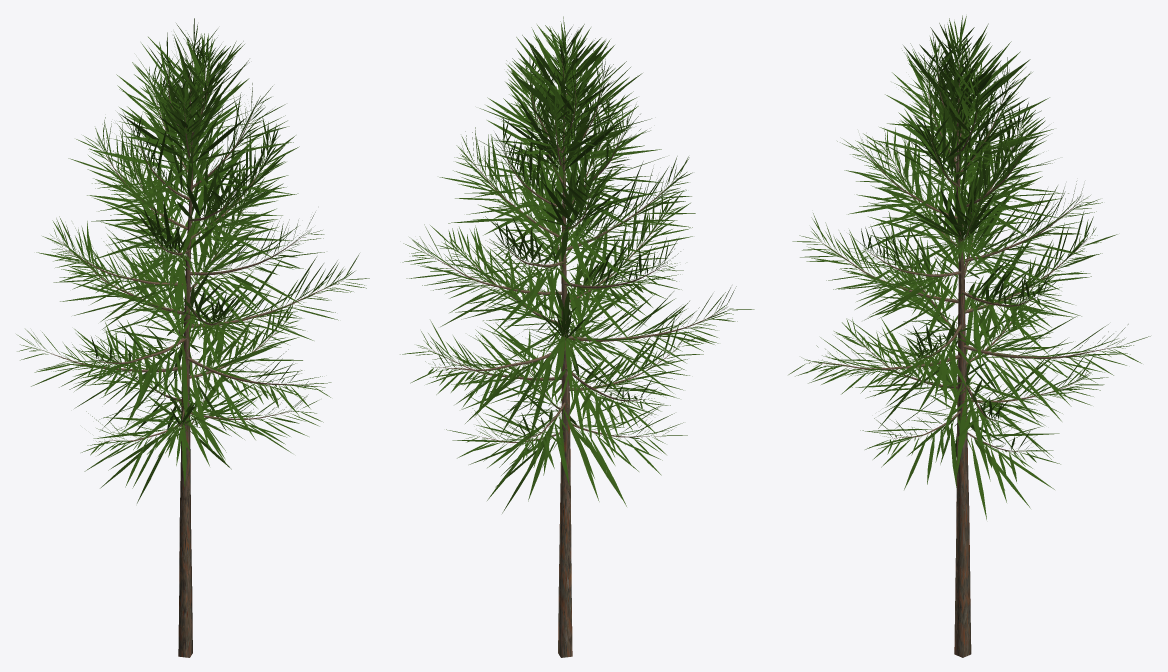
Rendered from Skinny short varient.fbx.
3 renders of one model, left to right at view 1: azimuth 30°, elevation 25°; view 2: azimuth 150°, elevation 25°; view 3: azimuth 270°, elevation 25°, orthographic.
Visible parts, largest first — view 1: leaves.006, tree.006; view 2: leaves.006, tree.006; view 3: leaves.006, tree.006.
Boxes of the visible parts, x1,y1,x2,y2 form: leaves.006: [16, 18, 369, 503]; tree.006: [40, 48, 339, 657]; leaves.006: [400, 16, 754, 513]; tree.006: [424, 46, 726, 657]; leaves.006: [788, 15, 1150, 519]; tree.006: [809, 45, 1119, 657].
Size of the model in its own units: 1632 by 3276 by 1715.
Materials: 2 (1 with a texture image).
